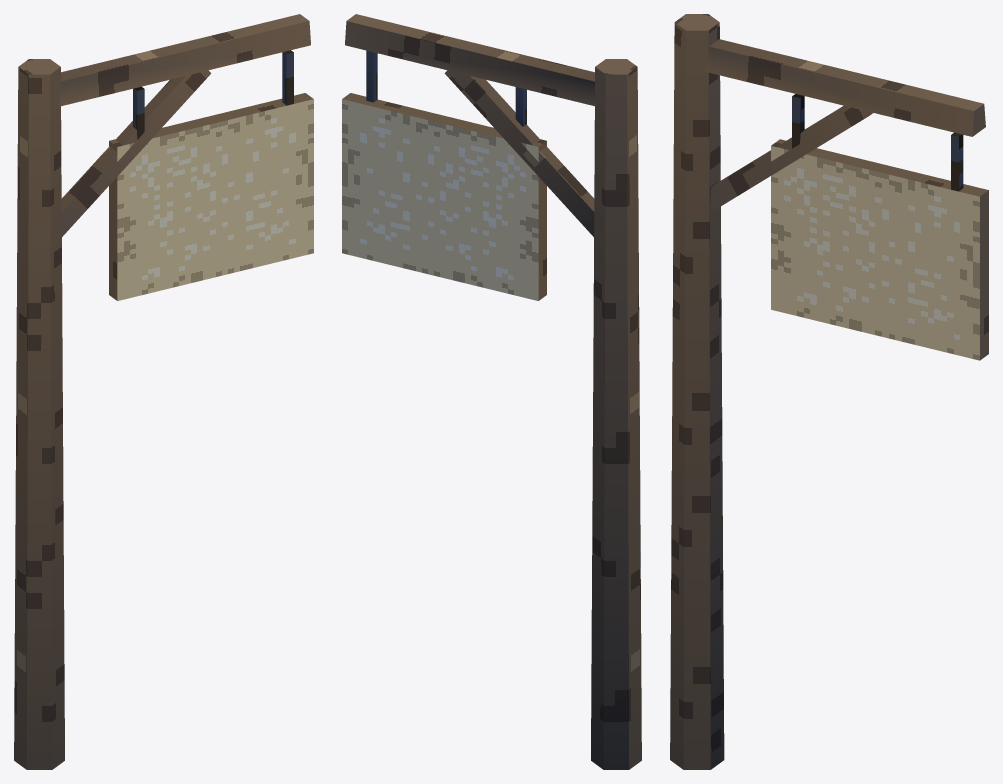
File: mprop.signpost__hanging.glb
The picture shows the model from 3 angles, left to right: view 1: azimuth 30°, elevation 25°; view 2: azimuth 150°, elevation 25°; view 3: azimuth 330°, elevation 25°; orthographic projection. The views are drawn at different scales.
Parts seen in each view (by area): view 1: kit_boards, kit_post; view 2: kit_boards, kit_post; view 3: kit_boards, kit_post.
Boxes of the visible parts, box(x1,y1,x2,y2) form: kit_boards: box(59, 14, 313, 300); kit_post: box(14, 59, 64, 769); kit_boards: box(342, 14, 596, 300); kit_post: box(591, 59, 641, 769); kit_boards: box(704, 39, 988, 360); kit_post: box(670, 14, 724, 769).
Size of the model in its own units: 1.18 by 2.7 by 0.18.
Materials: 3 (3 with a texture image).
